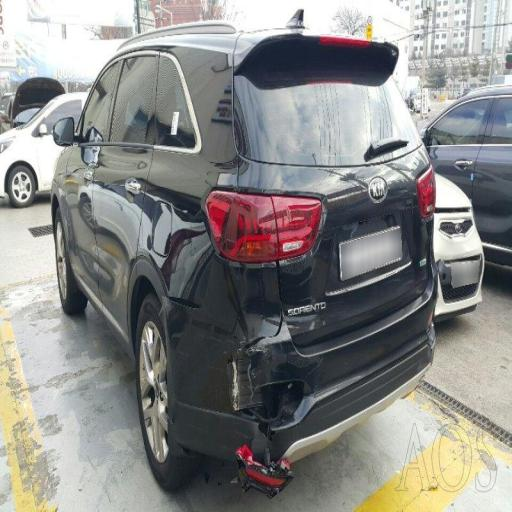broken: (218, 346, 294, 505)
dent: (85, 157, 227, 317)
